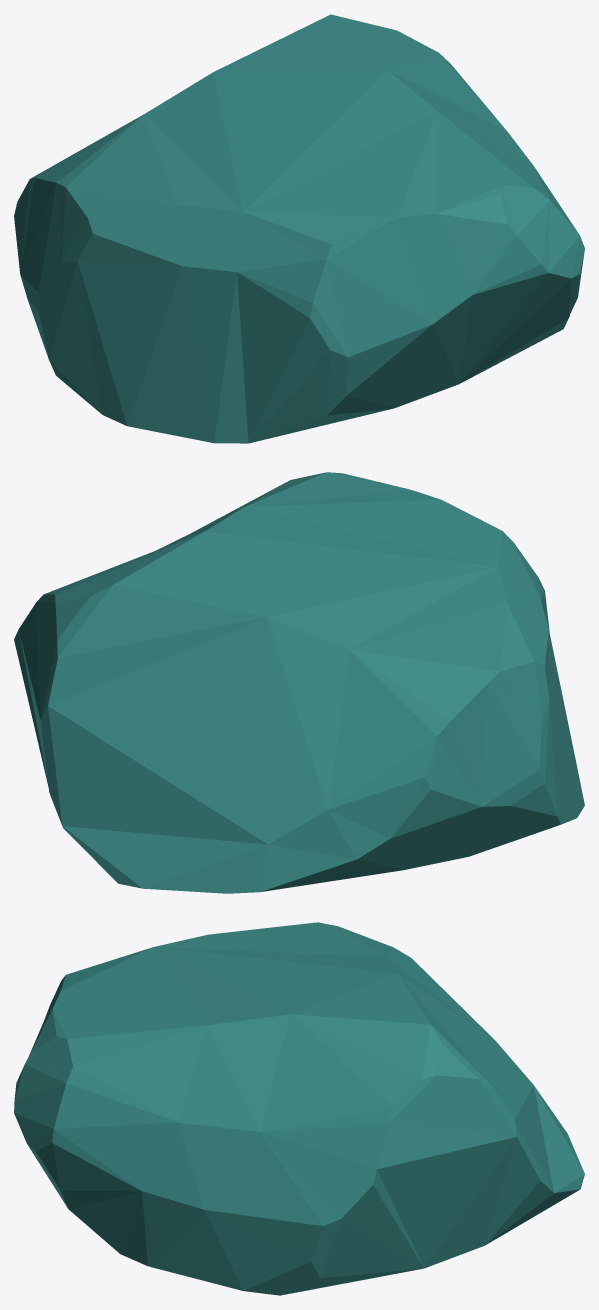
Rendered from SM_Rock_Sea_Medium_Round_A.fbx.
3 views of the same model, one above another, from view 1: azimuth 30°, elevation 25°; view 2: azimuth 150°, elevation 25°; view 3: azimuth 270°, elevation 25° (orthographic). The views are drawn at different scales.
Visible parts, largest first — view 1: rock-sea-medium-round-a; view 2: rock-sea-medium-round-a; view 3: rock-sea-medium-round-a.
Boxes of the visible parts, bbox=[...] form: rock-sea-medium-round-a: bbox=[14, 14, 584, 443]; rock-sea-medium-round-a: bbox=[14, 472, 584, 893]; rock-sea-medium-round-a: bbox=[14, 922, 584, 1295].
Size of the model in its own units: 2.72 by 1.22 by 2.84.
